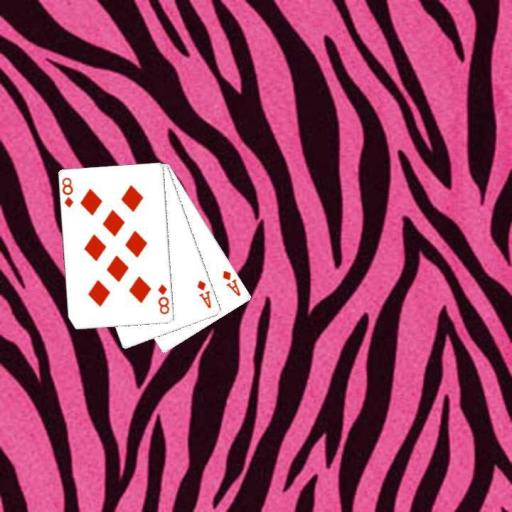card-corner: (220, 267, 242, 298), (194, 277, 213, 310), (155, 281, 171, 316), (60, 174, 74, 209)
